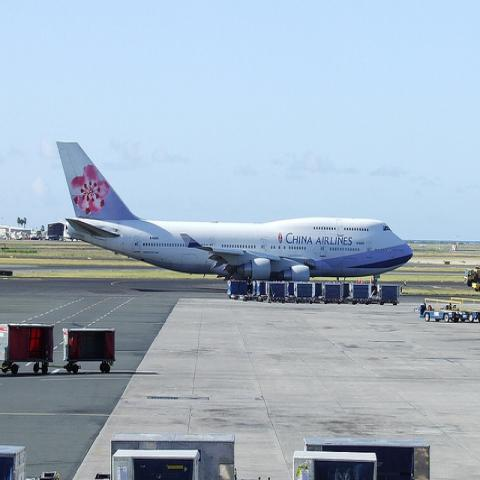truck: (1, 322, 55, 379), (62, 326, 115, 374), (414, 300, 462, 322)
